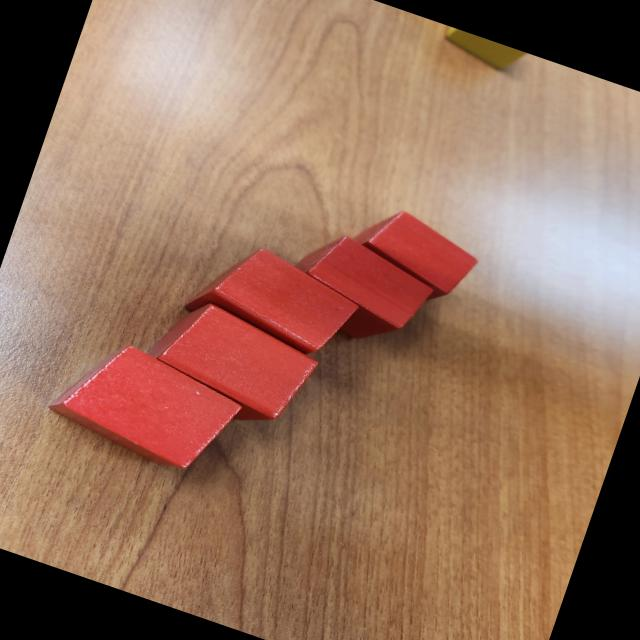red: (38, 326, 250, 486), (132, 288, 326, 442), (182, 228, 366, 364), (274, 221, 442, 358), (344, 198, 488, 310)
yellow: (432, 24, 532, 80)
